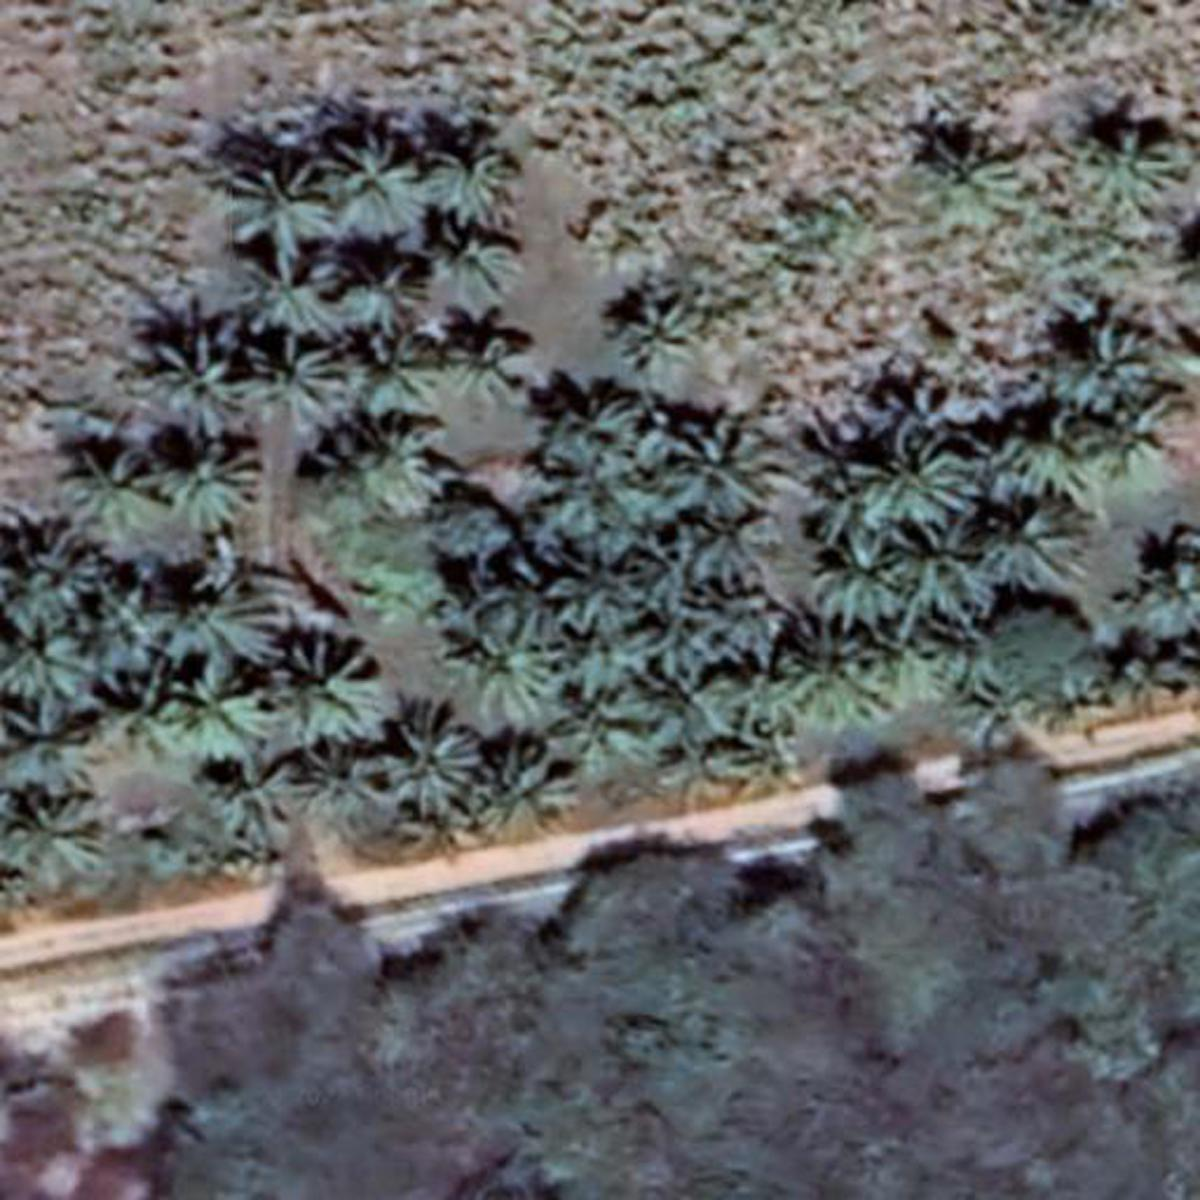coconut: (133, 581, 300, 691), (813, 421, 977, 529), (307, 124, 431, 238), (904, 127, 1038, 229), (1073, 121, 1200, 225), (264, 638, 389, 742), (0, 780, 110, 892), (778, 616, 890, 724), (660, 414, 778, 516), (888, 529, 1005, 630), (960, 426, 1092, 515), (543, 525, 653, 632), (1066, 398, 1185, 496), (49, 442, 164, 543), (370, 719, 489, 815), (799, 525, 909, 630), (1054, 316, 1176, 410), (145, 325, 246, 435), (0, 632, 116, 726), (234, 152, 325, 267), (149, 677, 269, 764), (557, 689, 673, 778), (473, 724, 584, 816), (255, 332, 353, 435), (431, 131, 534, 227), (471, 632, 571, 731), (989, 513, 1110, 595), (895, 616, 1014, 696), (164, 440, 267, 529), (7, 546, 107, 635), (421, 229, 527, 311), (351, 327, 447, 416), (234, 257, 349, 330), (684, 503, 778, 588), (205, 757, 285, 855), (290, 754, 382, 834), (616, 284, 700, 370), (564, 393, 653, 475), (358, 419, 440, 501), (309, 419, 384, 496), (451, 342, 541, 403), (346, 260, 424, 323)
